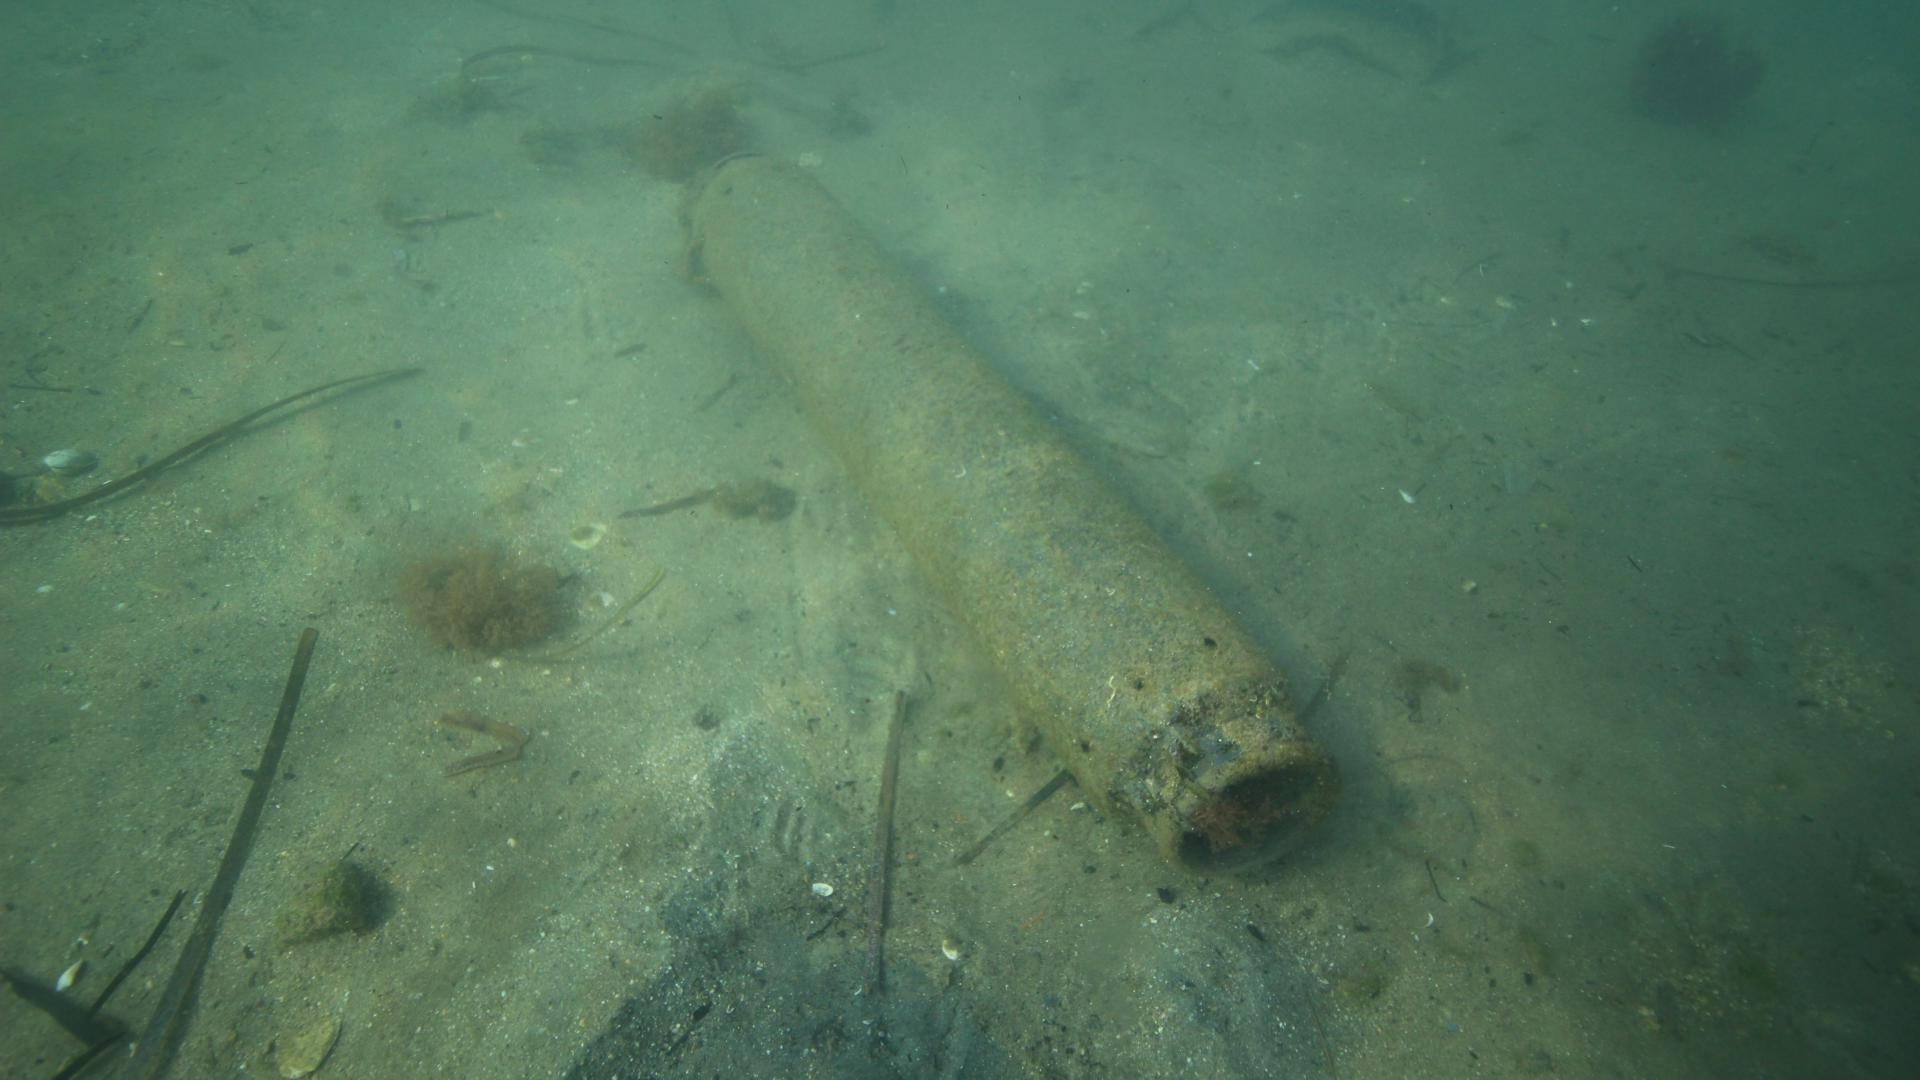eel fish trap: (684, 146, 1349, 884)
